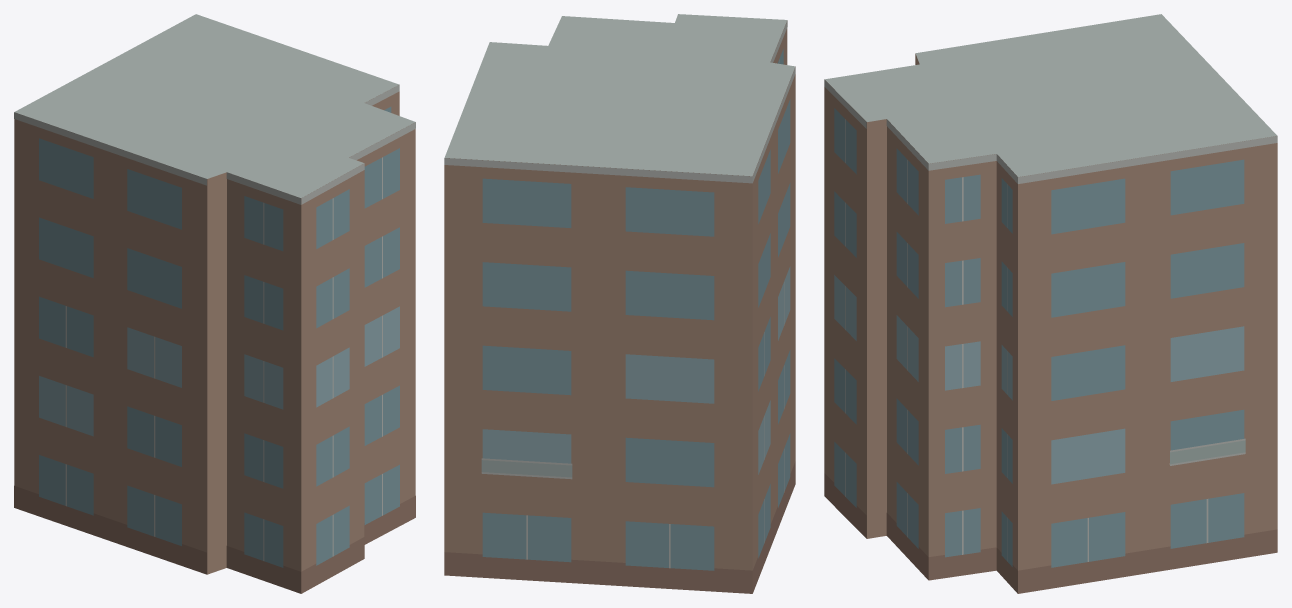
Rendered from survey-upis-32849953.glb.
3 views of the same model, side by side, from view 1: azimuth 30°, elevation 25°; view 2: azimuth 150°, elevation 25°; view 3: azimuth 270°, elevation 25° (orthographic). The views are drawn at different scales.
Visible parts, largest first — view 1: survey-upis-32849953.tmp; view 2: survey-upis-32849953.tmp; view 3: survey-upis-32849953.tmp.
Part boxes in pixels (x1,y1,x2,y2): survey-upis-32849953.tmp: (14,14,415,593); survey-upis-32849953.tmp: (444,14,795,593); survey-upis-32849953.tmp: (824,14,1277,593).
Bounding box in the file's own units: 12.01 × 14.3 × 14.1.
